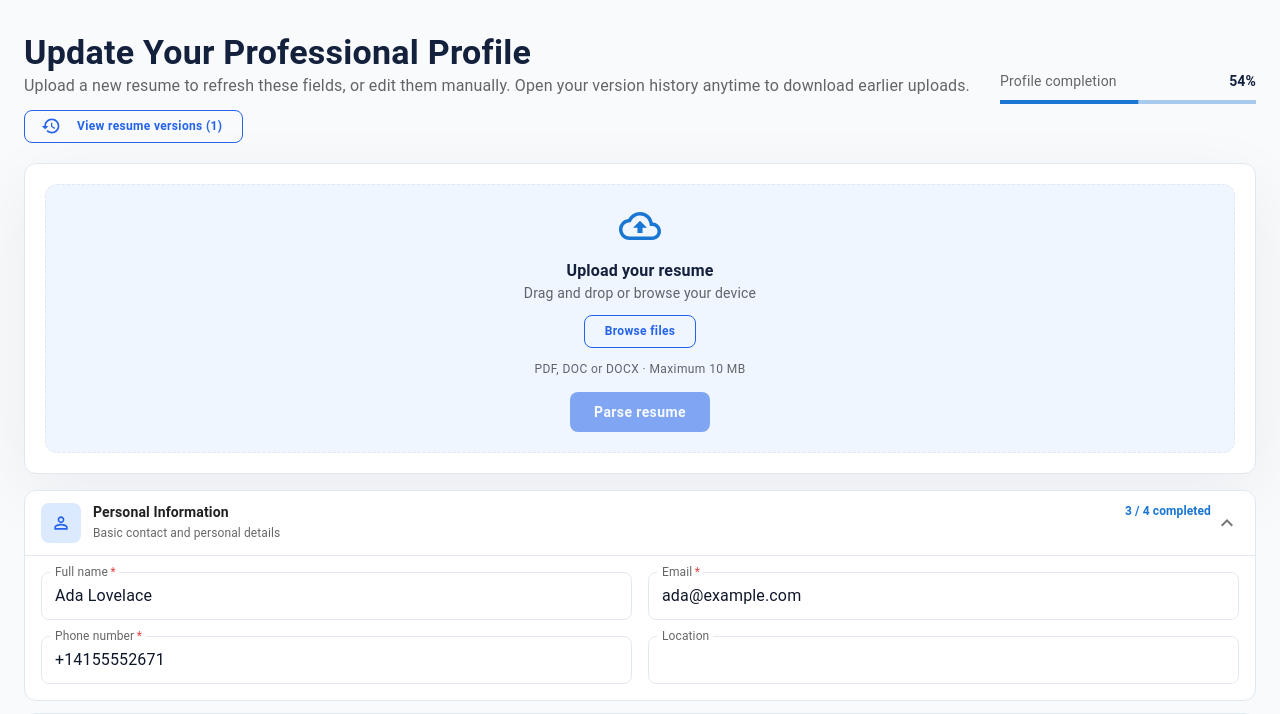
Test: EditProfilePage › keeps upload on the edit page and opens resume versions in a dialog
expect the field labelled "Full name *" is shown: met, box [41,584,632,607]
expect the element named "choose resume" is shown: met, box [24,163,1256,474]
What coordinates should you click on to do the following:
click the button "View resume versions (1)"
I would click on:
 (134, 126)
Its box is [24,110,243,143].
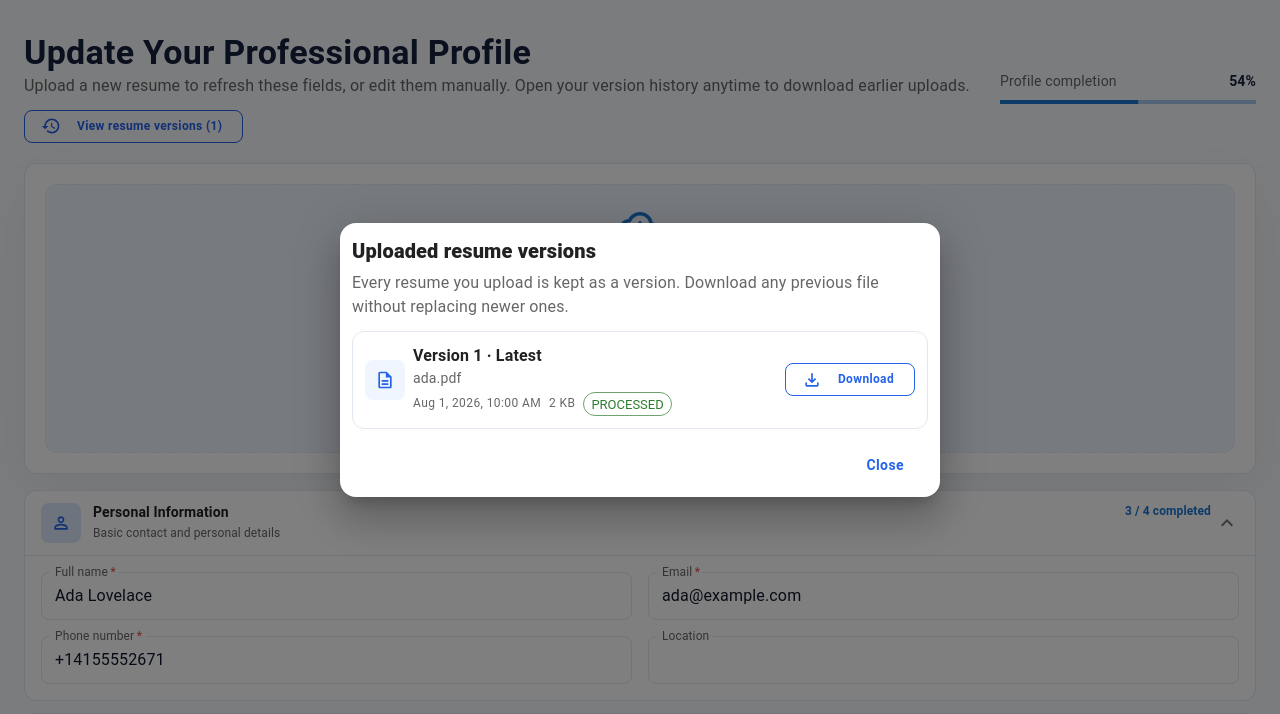
expect the dialog "Uploaded resume versions" is shown: met, box [340,223,940,497]
expect the text "Version 1 · Latest" is shown: met, box [413,346,542,365]
expect the text "ada.pdf" is shown: met, box [413,370,462,386]
